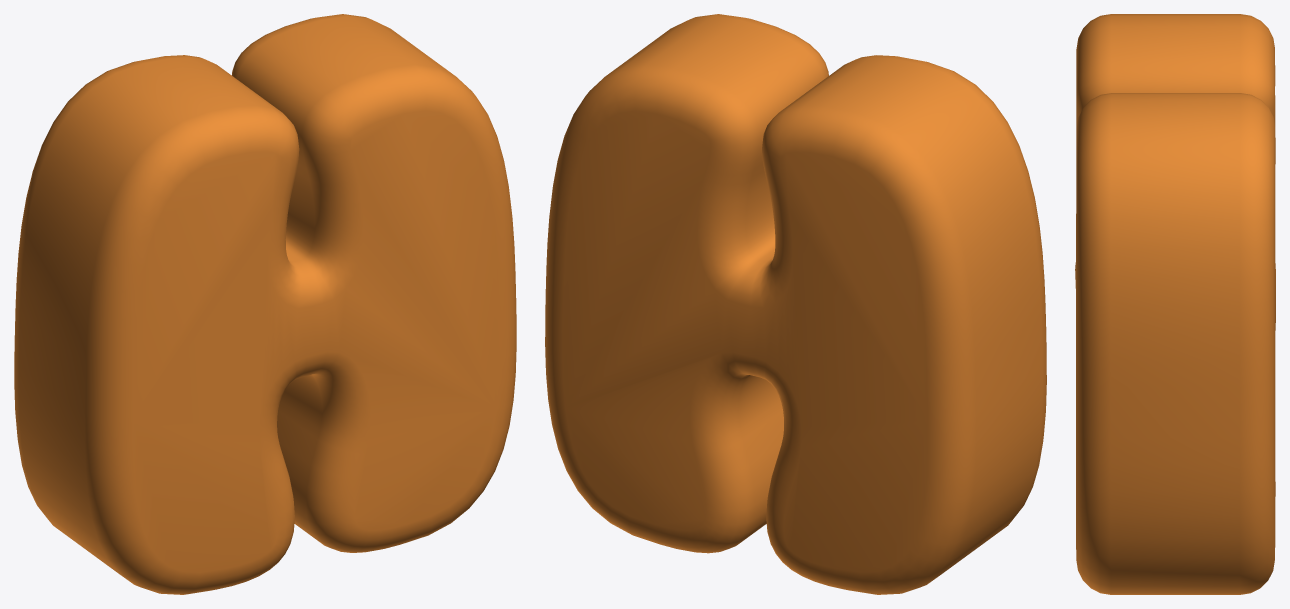
Rendered from Honeypils1.glb.
3 renders of one model, left to right at view 1: azimuth 30°, elevation 25°; view 2: azimuth 150°, elevation 25°; view 3: azimuth 270°, elevation 25°, orthographic. The views are drawn at different scales.
Parts seen in each view (by area): view 1: BezierCurve; view 2: BezierCurve; view 3: BezierCurve.
Part boxes in pixels (x1,y1,x2,y2): BezierCurve: [14, 14, 516, 594]; BezierCurve: [545, 14, 1046, 594]; BezierCurve: [1075, 14, 1275, 594].
Size of the model in its own units: 4.83 by 5.14 by 2.01.
